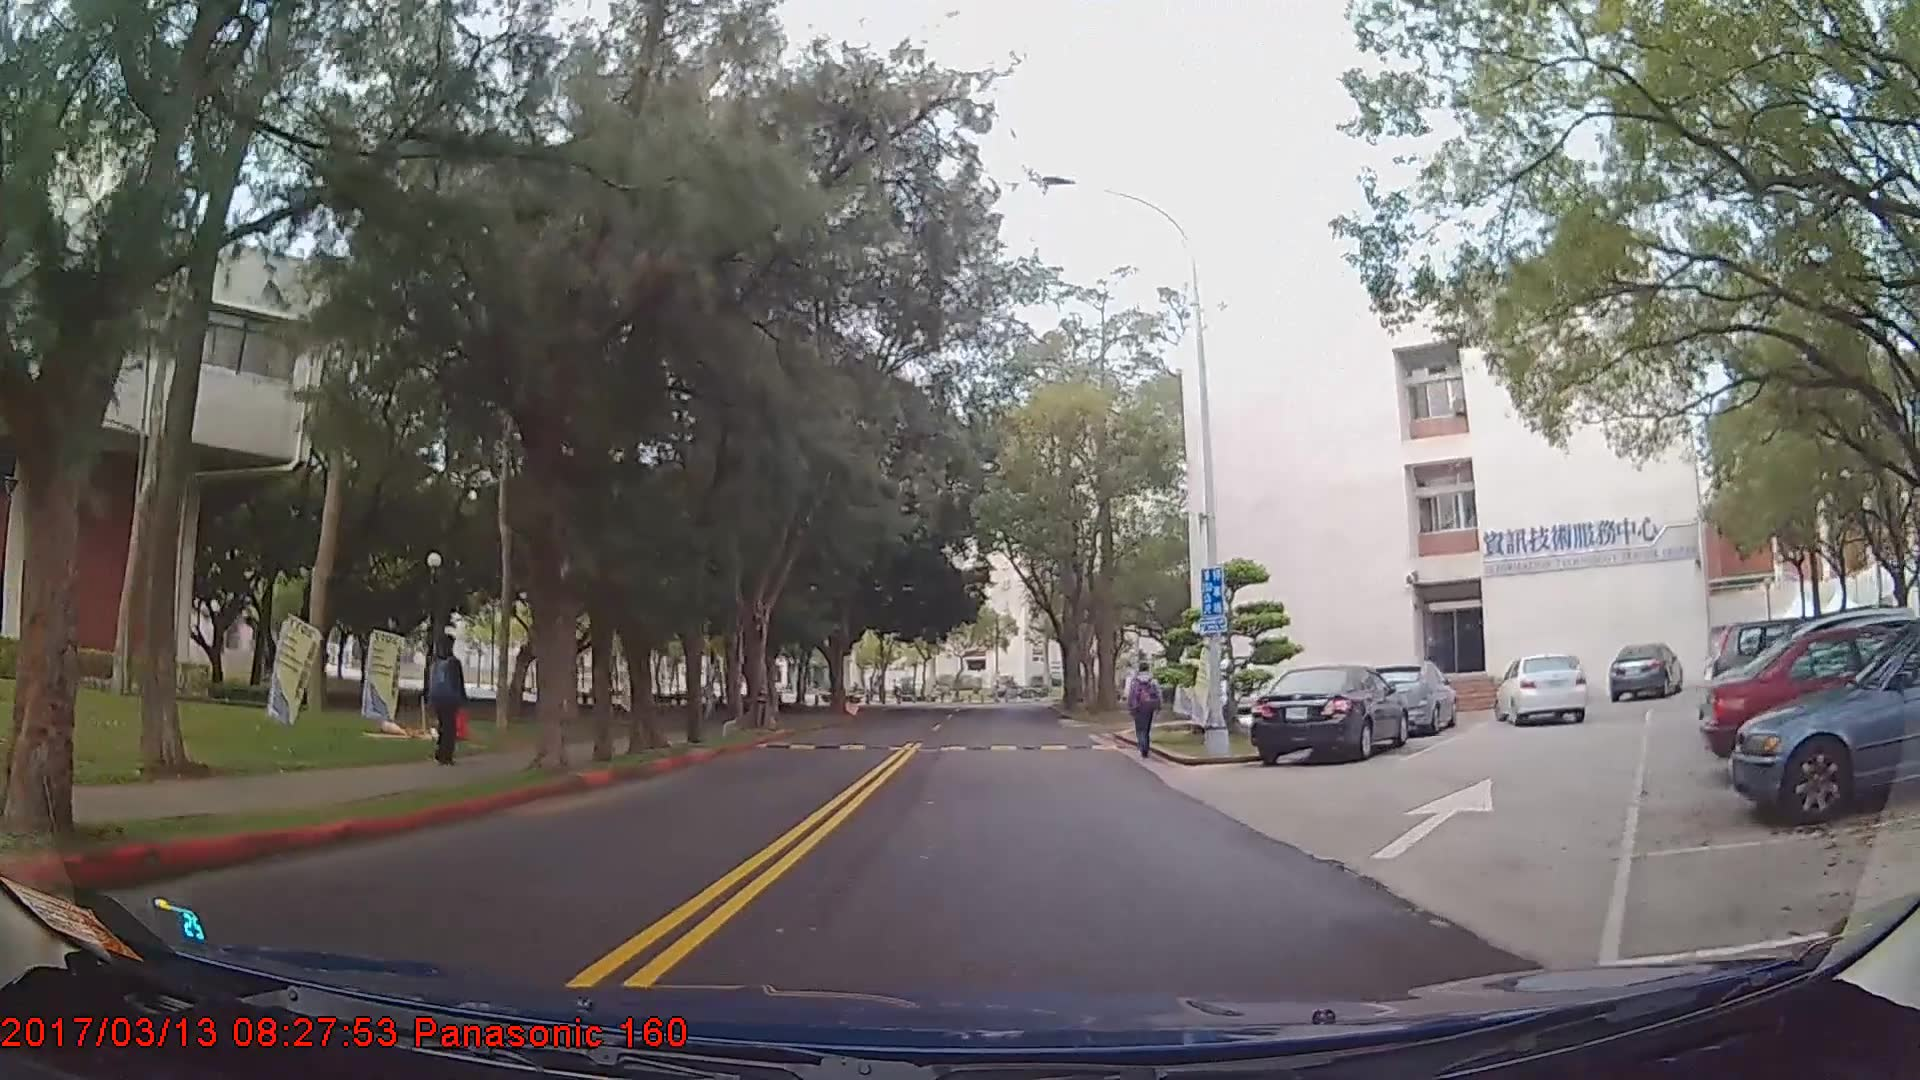pedestrian: (422, 644, 466, 776), (1130, 662, 1166, 764)
vehicle: (1731, 622, 1920, 825), (1697, 622, 1920, 775), (1249, 664, 1408, 763), (1364, 658, 1461, 737), (1495, 652, 1589, 726), (1607, 641, 1683, 702)
